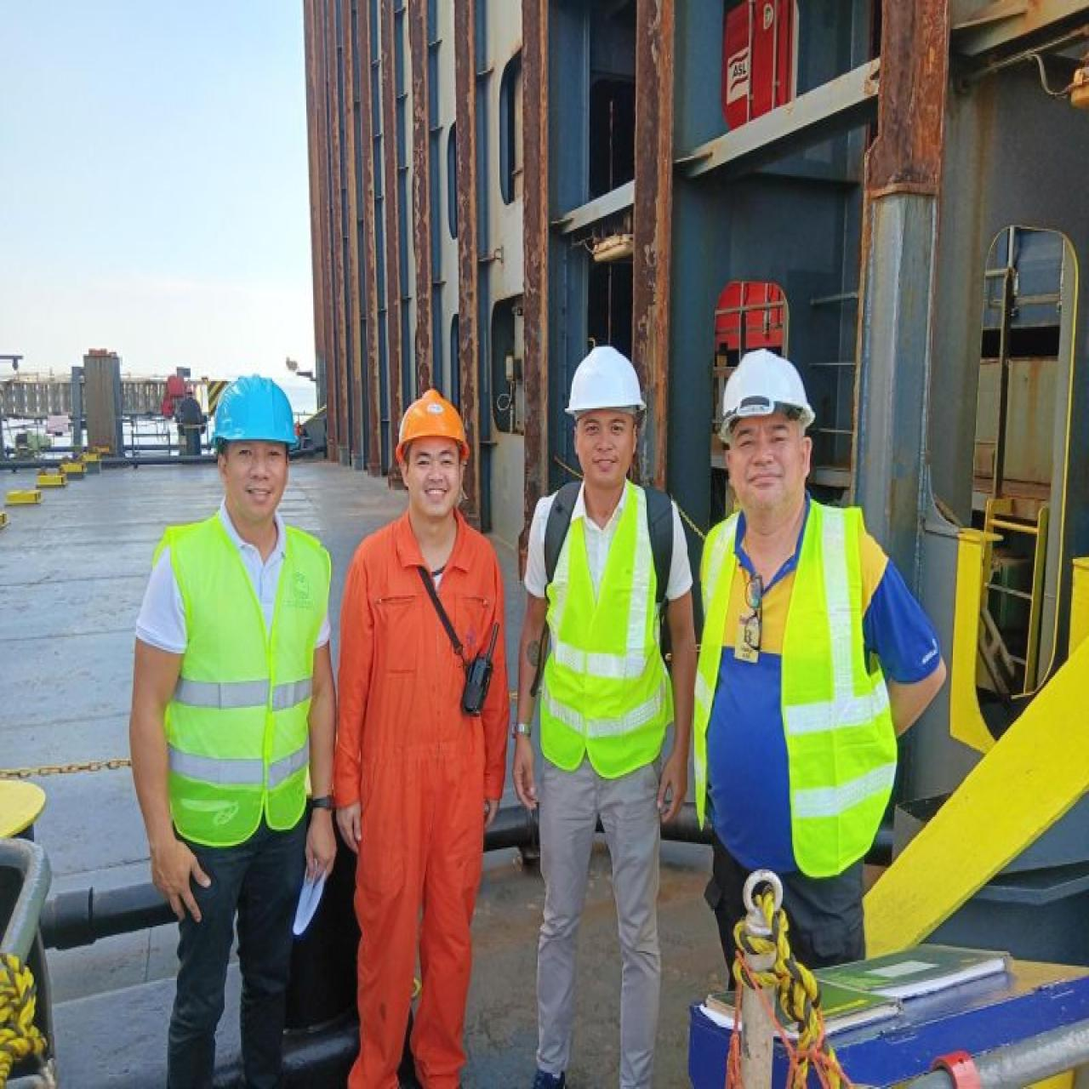NO_Safety_Vest: (357, 521, 495, 785)
Person: (678, 334, 959, 1089), (112, 363, 350, 1089), (506, 334, 704, 1089), (334, 371, 517, 1089)
Safety_Vest: (700, 498, 895, 878), (153, 514, 330, 848), (535, 478, 669, 782)
